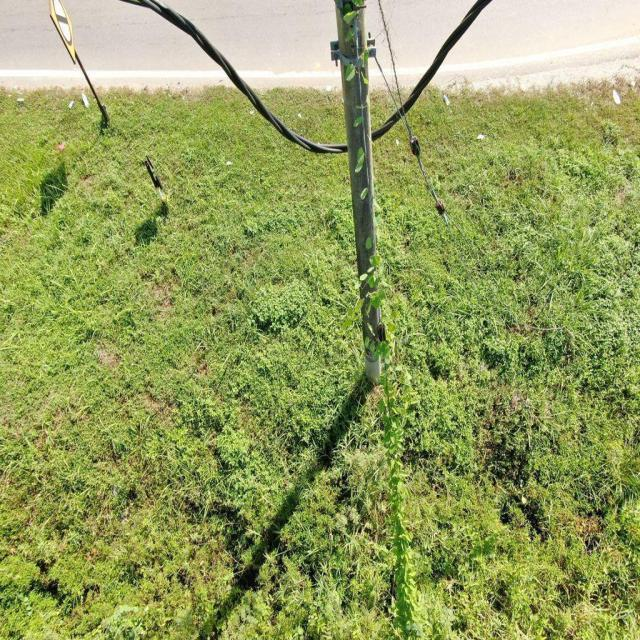critical vegetation: (340, 11, 430, 631)
